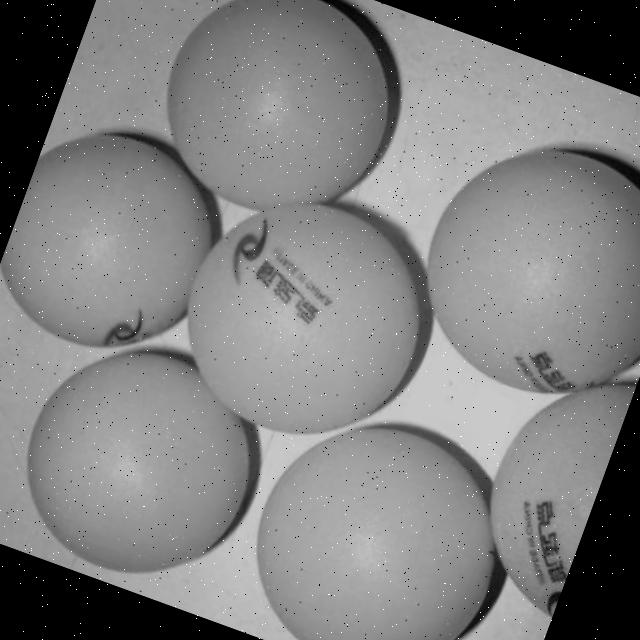ping-pong-ball: (144, 163, 463, 475), (382, 96, 640, 429), (0, 311, 288, 609), (219, 381, 542, 640), (126, 0, 433, 252), (0, 93, 246, 387)
